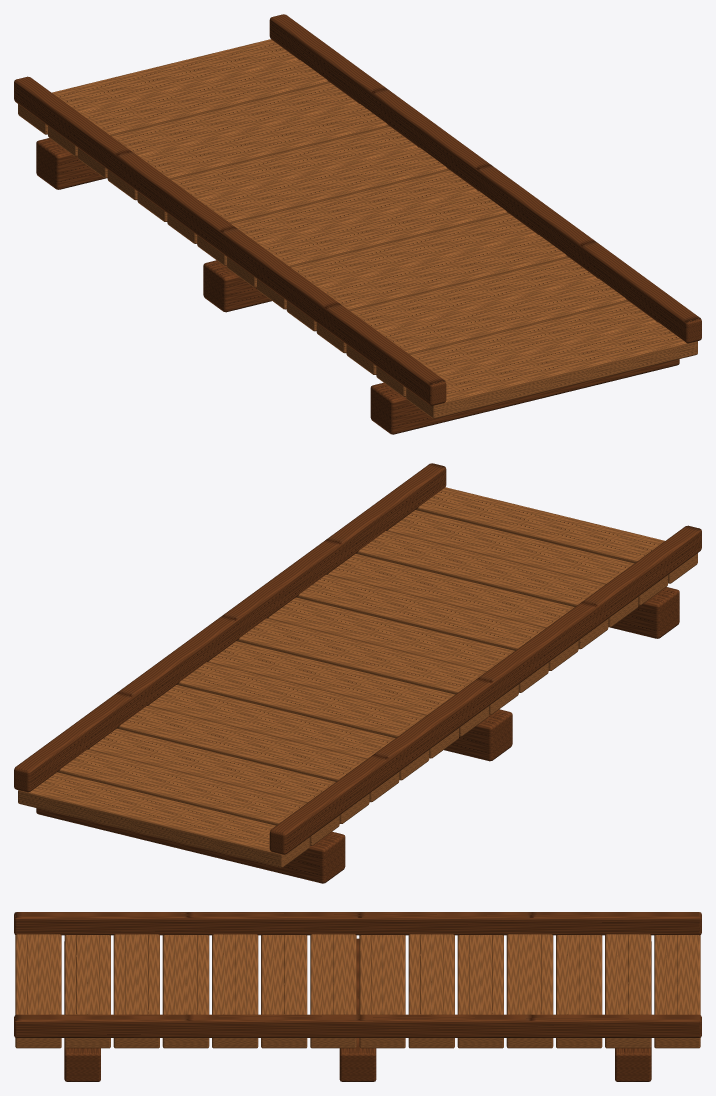
The model's file is canal-duckboard-walkway.glb.
3 views of the same model, one above another, from view 1: azimuth 30°, elevation 25°; view 2: azimuth 150°, elevation 25°; view 3: azimuth 270°, elevation 25° (orthographic). The views are drawn at different scales.
Parts seen in each view (by area): view 1: canal-duckboard-walkway; view 2: canal-duckboard-walkway; view 3: canal-duckboard-walkway.
Boxes of the visible parts, box(x1,y1,x2,y2) form: canal-duckboard-walkway: box(14, 14, 701, 434); canal-duckboard-walkway: box(14, 463, 701, 883); canal-duckboard-walkway: box(14, 912, 701, 1081).
Size of the model in its own units: 1.2 by 0.2849 by 3.
Materials: 2 (2 with a texture image).
